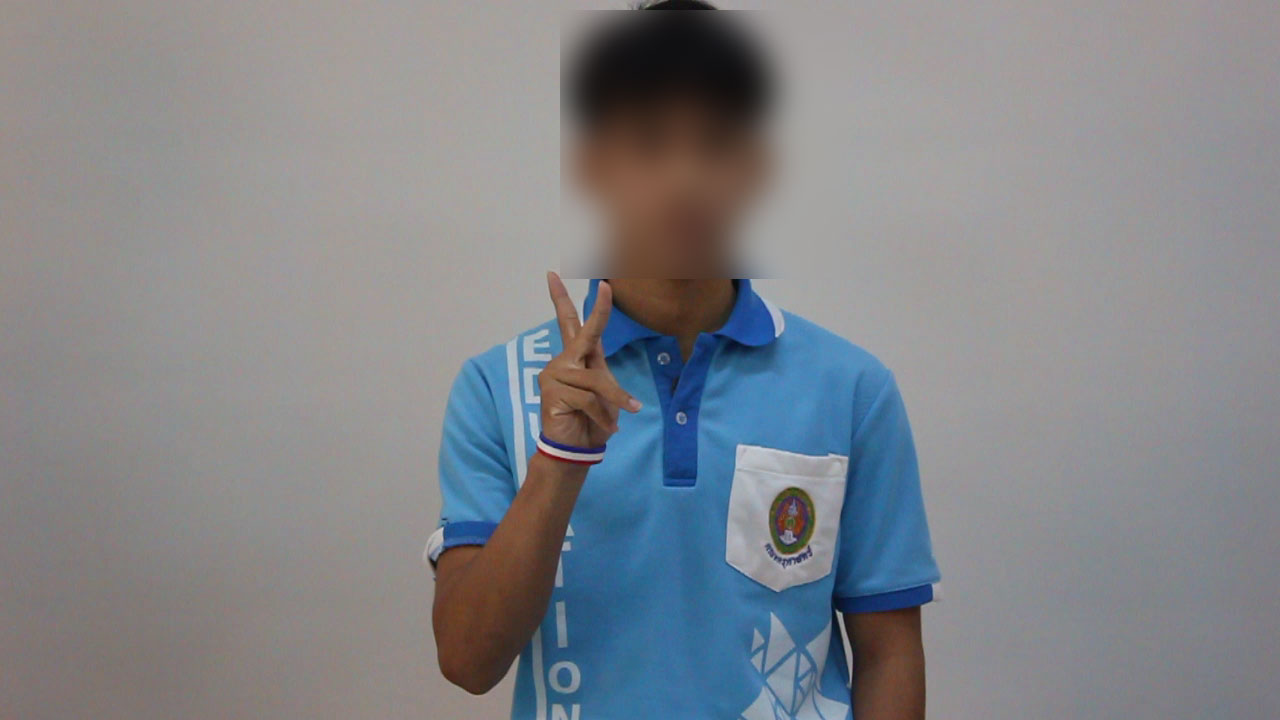ko: (527, 261, 653, 456)
